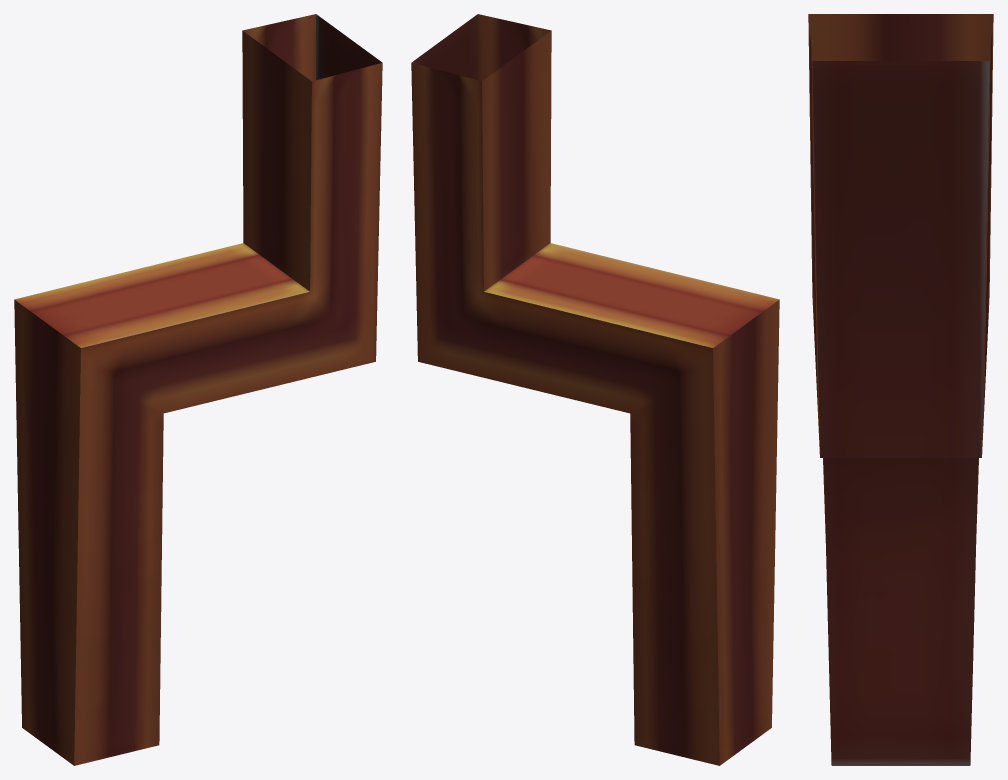
The model's file is FB_Xiaoshengxianzhuang_07.FBX.
3 renders of one model, left to right at view 1: azimuth 30°, elevation 25°; view 2: azimuth 150°, elevation 25°; view 3: azimuth 270°, elevation 25°, orthographic. The views are drawn at different scales.
Visible parts, largest first — view 1: Object09; view 2: Object09; view 3: Object09.
Boxes of the visible parts, left/top/right/bottom form: Object09: left=14, top=14, right=382, bottom=765; Object09: left=411, top=14, right=779, bottom=765; Object09: left=808, top=14, right=993, bottom=765.
Bounding box in the file's own units: 0.7015 × 1.41 × 0.2801.
